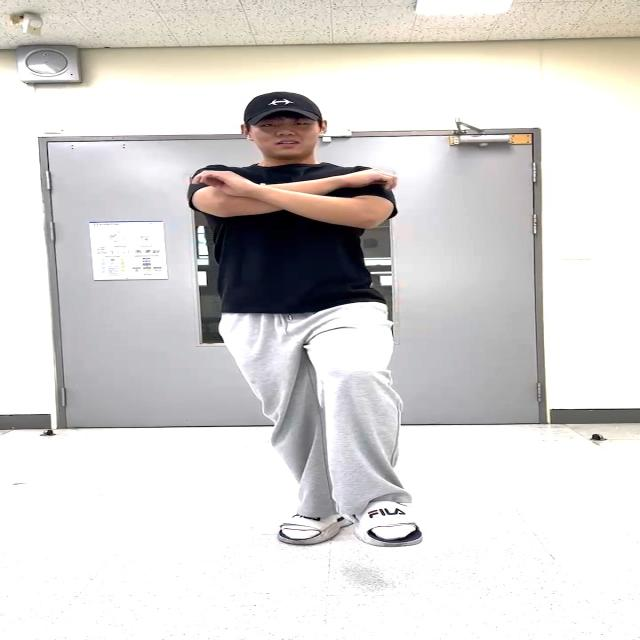leg: (314, 311, 424, 547)
